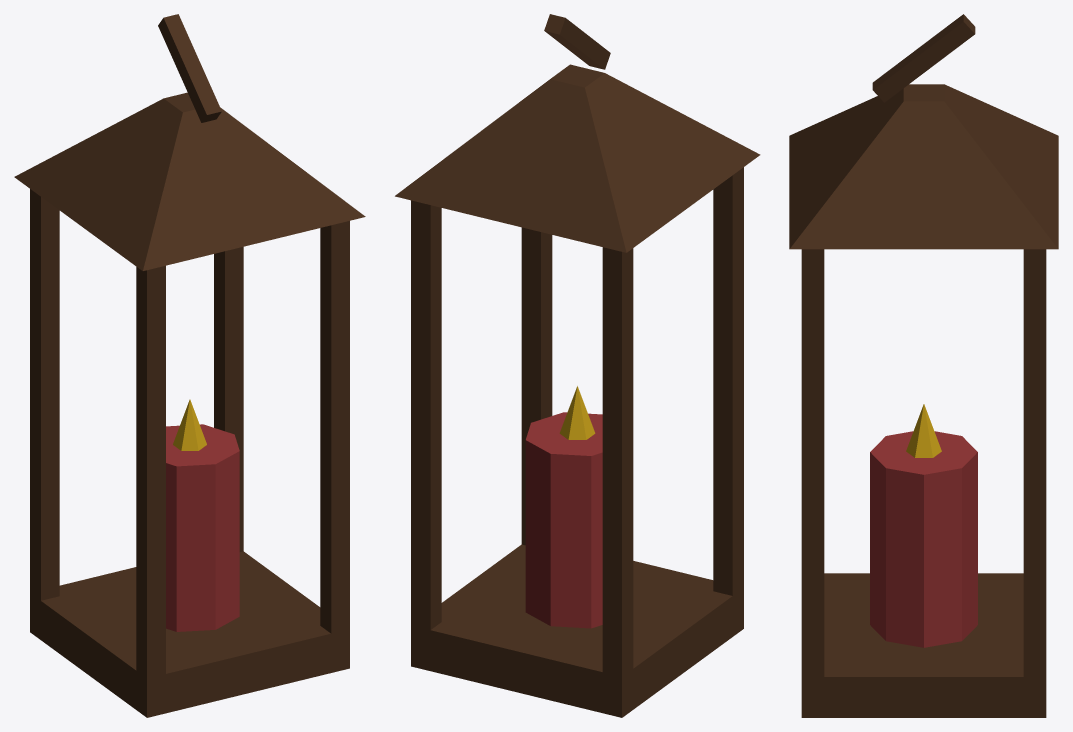
Rendered from candle-holder-12.glb.
3 renders of one model, left to right at view 1: azimuth 30°, elevation 25°; view 2: azimuth 150°, elevation 25°; view 3: azimuth 270°, elevation 25°, orthographic. The views are drawn at different scales.
Parts seen in each view (by area): view 1: candle_holder_12; view 2: candle_holder_12; view 3: candle_holder_12.
Boxes of the visible parts, box(x1,y1,x2,y2) form: candle_holder_12: box(14, 14, 365, 717); candle_holder_12: box(395, 14, 760, 717); candle_holder_12: box(789, 14, 1058, 717).
Size of the model in its own units: 0.1778 by 0.4727 by 0.1778.
